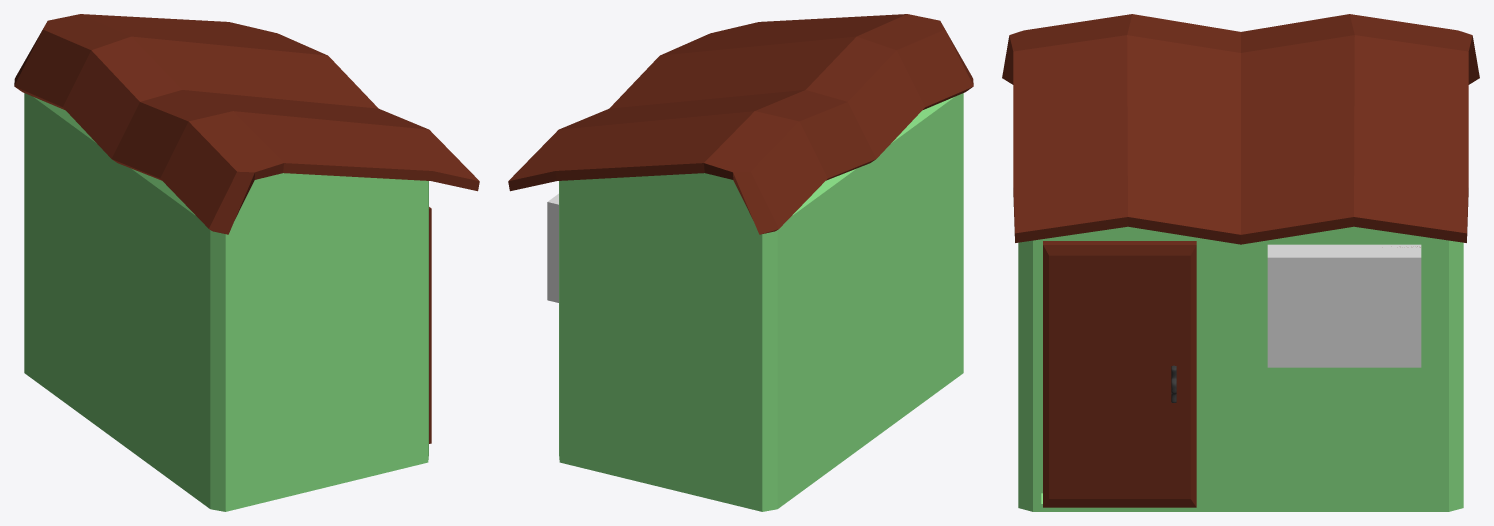
Rendered from House2.fbx.
The picture shows the model from 3 angles, left to right: view 1: azimuth 30°, elevation 25°; view 2: azimuth 150°, elevation 25°; view 3: azimuth 270°, elevation 25°; orthographic projection. The views are drawn at different scales.
Parts seen in each view (by area): view 1: Cube, Cube.008, Cube.001; view 2: Cube, Cube.008, Cube.003; view 3: Cube.008, Cube, Cube.001, Cube.003.
Part boxes in pixels (x1,y1,x2,y2): Cube: (24,93,428,511); Cube.008: (14,14,479,234); Cube.001: (429,207,431,443); Cube: (559,93,963,511); Cube.008: (508,14,973,234); Cube.003: (547,193,558,302); Cube.008: (1002,14,1479,244); Cube: (1018,226,1463,511); Cube.001: (1043,241,1196,507); Cube.003: (1267,244,1421,367).
Bounding box in the file's own units: 369 × 464 × 511.
